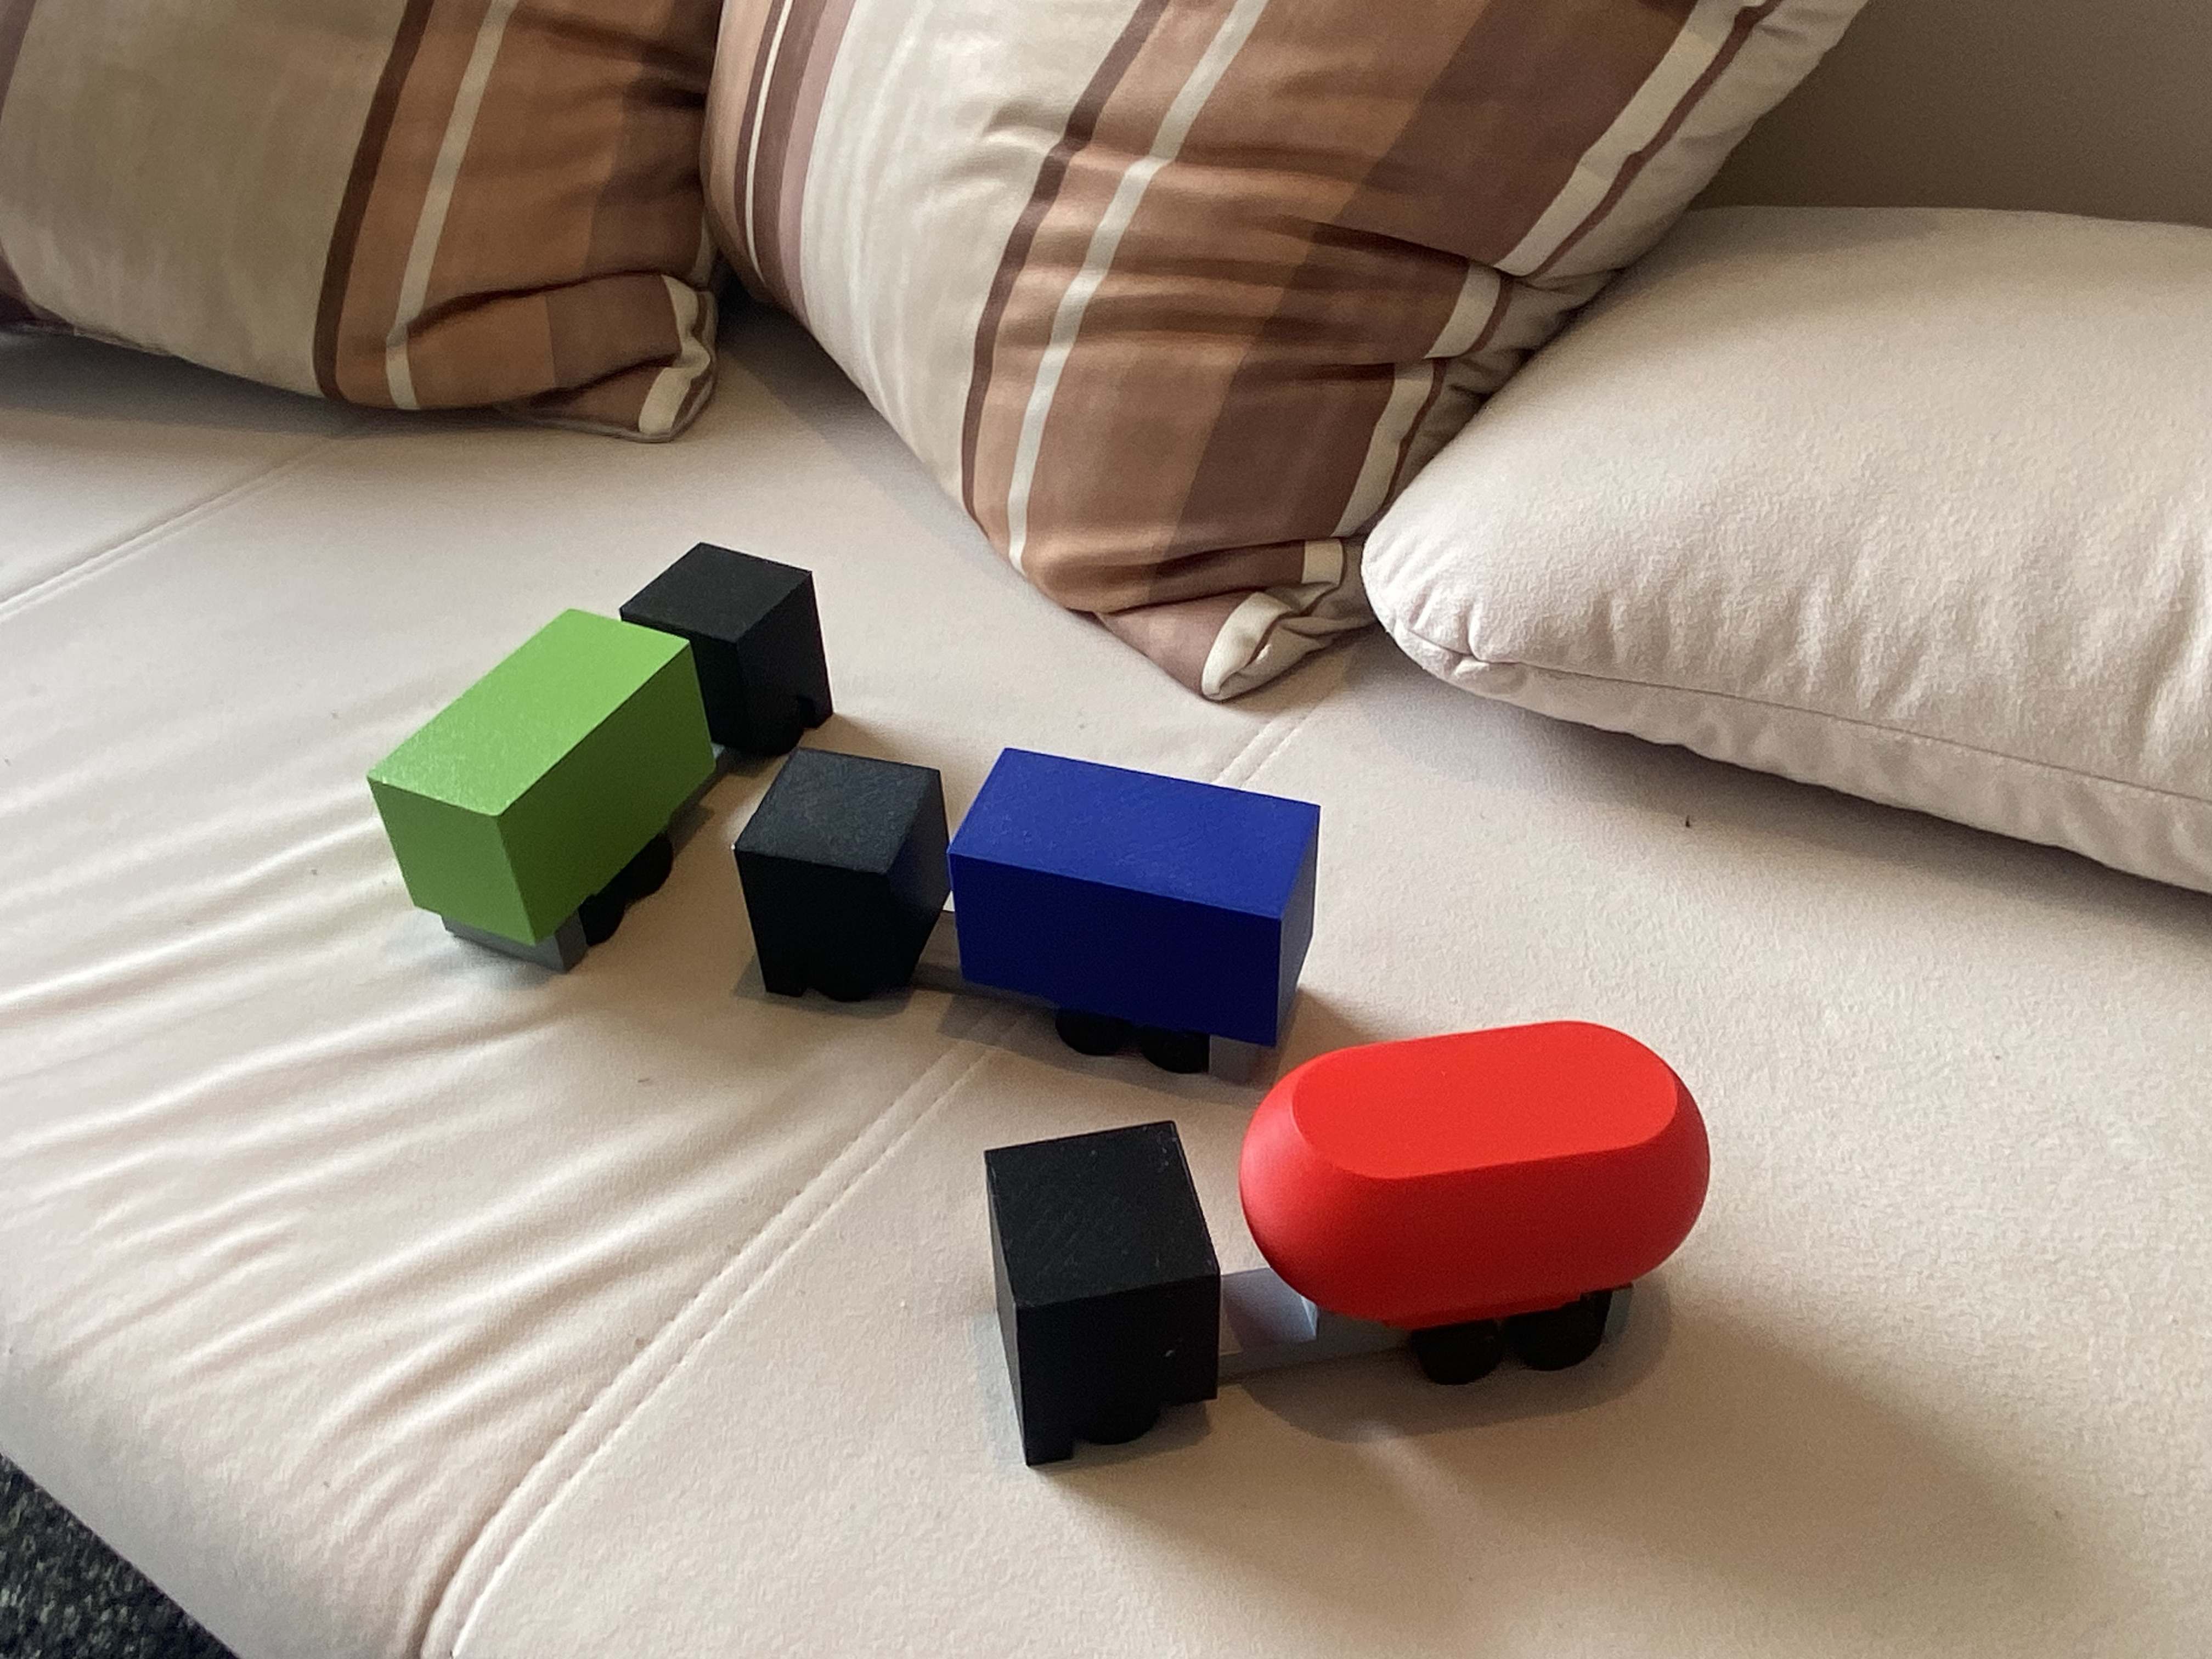blue_truck: (716, 725, 1318, 1044)
green_truck: (460, 467, 763, 1002)
red_truck: (986, 1053, 1719, 1427)
